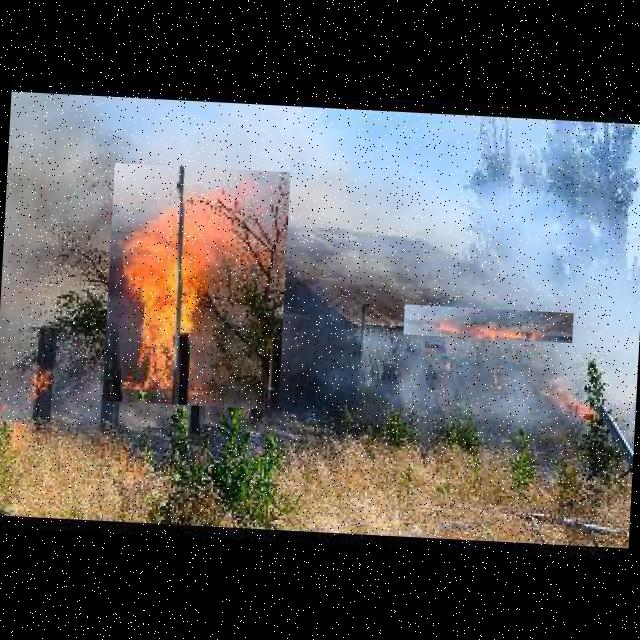fire: (102, 163, 290, 410), (404, 304, 574, 344), (537, 379, 607, 441)
